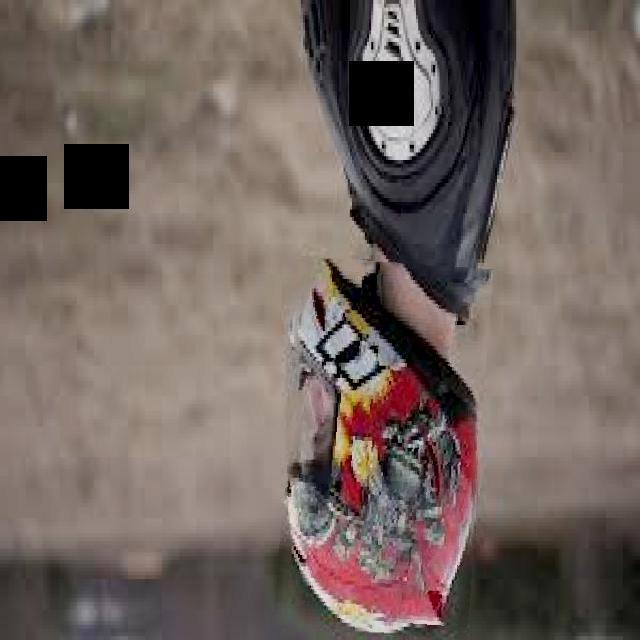helmet: (280, 259, 486, 637)
